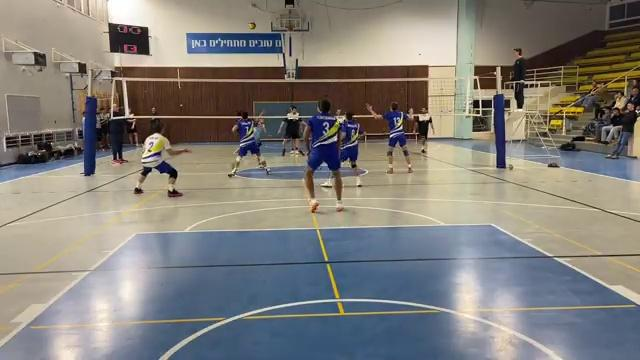ball: (249, 22, 258, 30)
